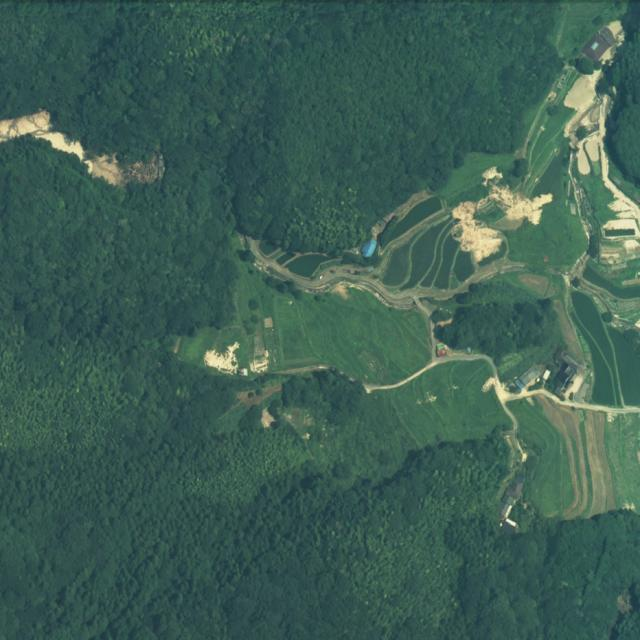landslide: (453, 167, 554, 262), (0, 110, 125, 185)
